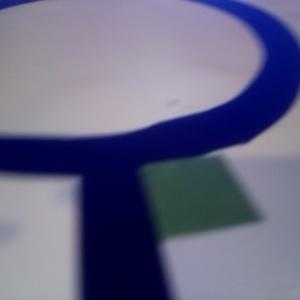bottom_right: (82, 137, 260, 241)
